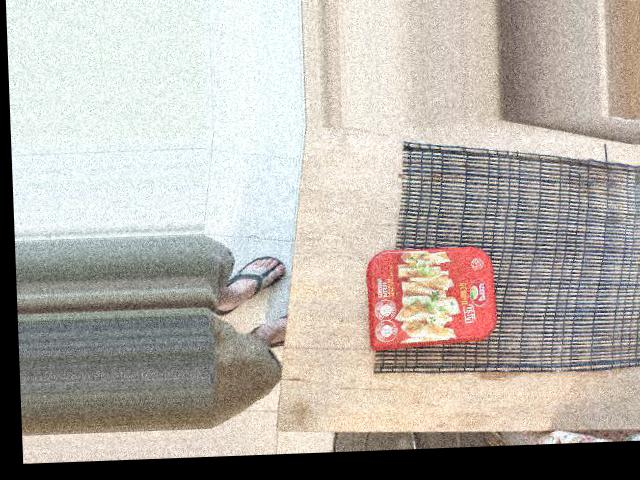cheese: (392, 115, 522, 314)
